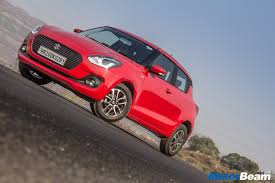Swift: (22, 24, 201, 153)
